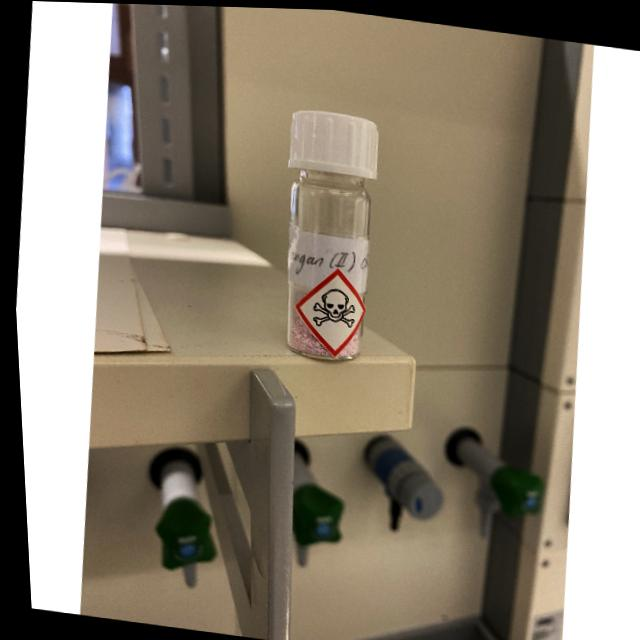acute toxicity: (306, 283, 354, 328)
